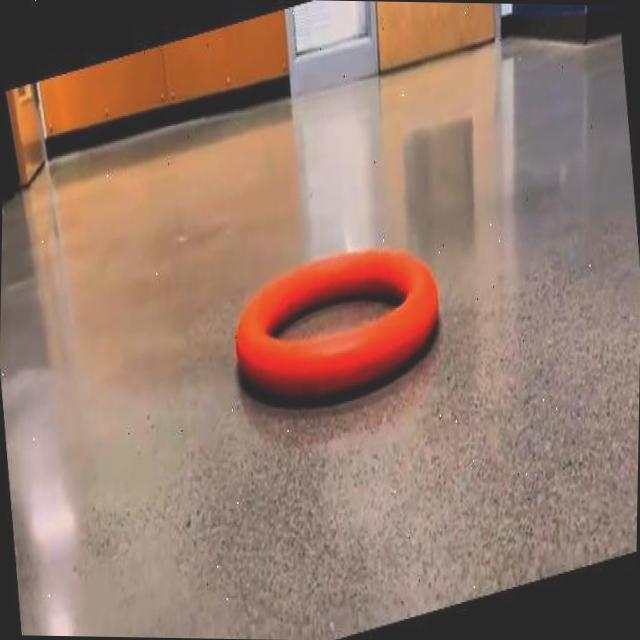note: (235, 249, 438, 400)
